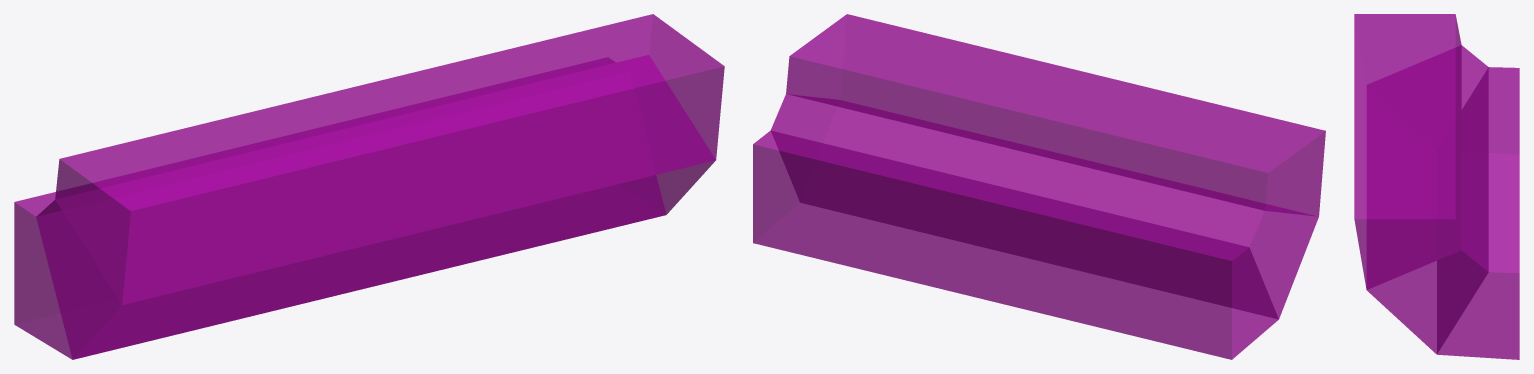
Rendered from SM_Prop_Pipe_Bend_09_Collision.fbx.
3 renders of one model, left to right at view 1: azimuth 30°, elevation 25°; view 2: azimuth 150°, elevation 25°; view 3: azimuth 270°, elevation 25°, orthographic. The views are drawn at different scales.
Visible parts, largest first — view 1: SM_Prop_Pipe_Bend_09_Collision; view 2: SM_Prop_Pipe_Bend_09_Collision; view 3: SM_Prop_Pipe_Bend_09_Collision.
Boxes of the visible parts, left/top/right/bottom form: SM_Prop_Pipe_Bend_09_Collision: left=14, top=14, right=724, bottom=359; SM_Prop_Pipe_Bend_09_Collision: left=753, top=14, right=1325, bottom=359; SM_Prop_Pipe_Bend_09_Collision: left=1354, top=14, right=1519, bottom=359.
Bounding box in the file's own units: 95.32 × 30.48 × 32.43.
